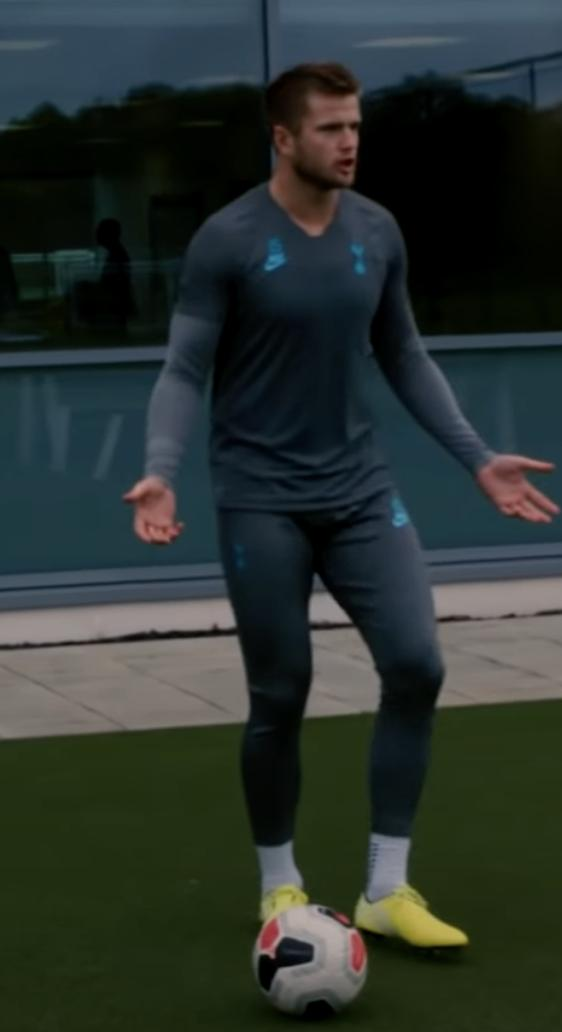ball: (253, 906, 365, 1015)
foot: (353, 886, 470, 955), (260, 887, 309, 923)
person: (123, 62, 562, 956)
